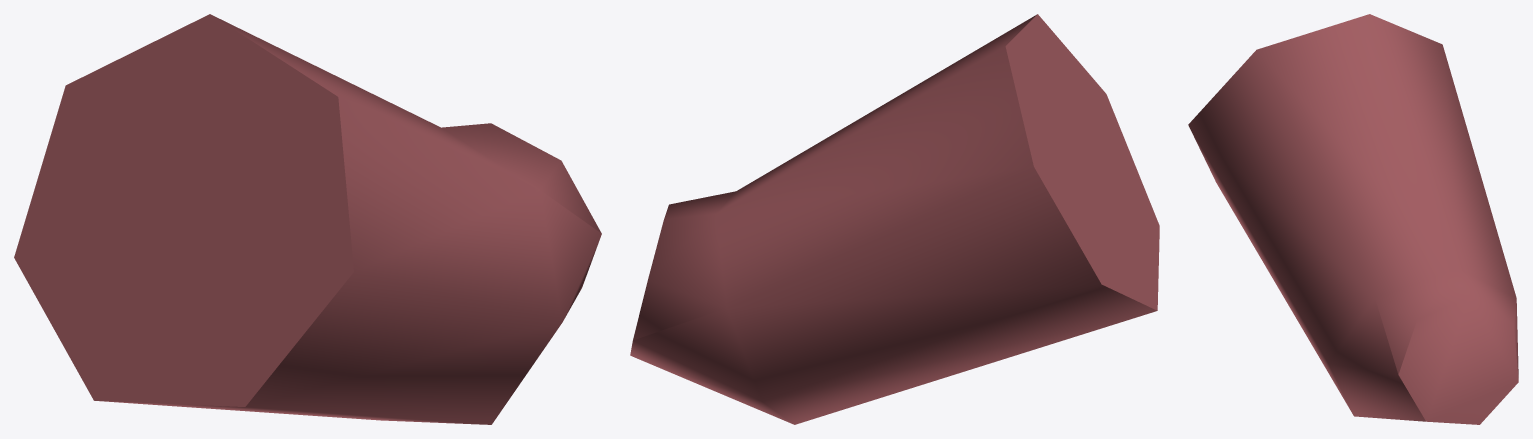
File: fingerspike_skirt_0.obj
The picture shows the model from 3 angles, left to right: view 1: azimuth 30°, elevation 25°; view 2: azimuth 150°, elevation 25°; view 3: azimuth 270°, elevation 25°; orthographic projection. The views are drawn at different scales.
Parts seen in each view (by area): view 1: fingerspike_skirt_0; view 2: fingerspike_skirt_0; view 3: fingerspike_skirt_0.
Part boxes in pixels (x1,y1,x2,y2): fingerspike_skirt_0: [14, 14, 601, 424]; fingerspike_skirt_0: [630, 14, 1159, 424]; fingerspike_skirt_0: [1188, 14, 1518, 424].
Bounding box in the file's own units: 0.1647 × 0.1357 × 0.1228.
